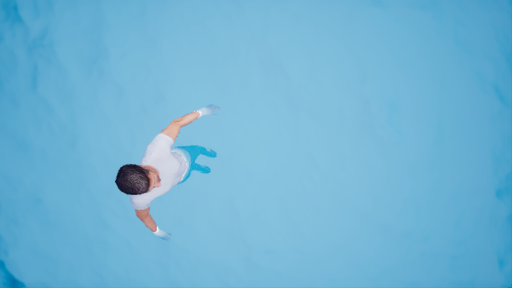person: (115, 101, 235, 236)
